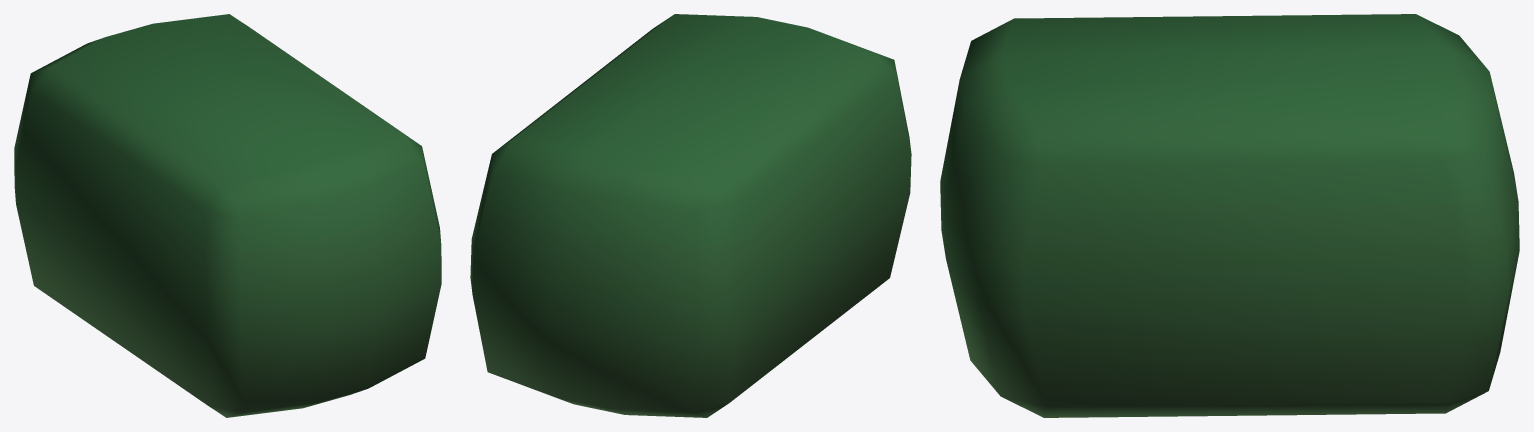
The model's file is Bush_1_4.glb.
3 views of the same model, side by side, from view 1: azimuth 30°, elevation 25°; view 2: azimuth 150°, elevation 25°; view 3: azimuth 270°, elevation 25° (orthographic). The views are drawn at different scales.
Visible parts, largest first — view 1: Bush_1_4; view 2: Bush_1_4; view 3: Bush_1_4.
Boxes of the visible parts, left/top/right/bottom form: Bush_1_4: left=14, top=14, right=441, bottom=417; Bush_1_4: left=470, top=14, right=911, bottom=417; Bush_1_4: left=940, top=14, right=1519, bottom=417.
Size of the model in its own units: 0.799 by 0.728 by 1.29.
Materials: 1 (1 with a texture image).
